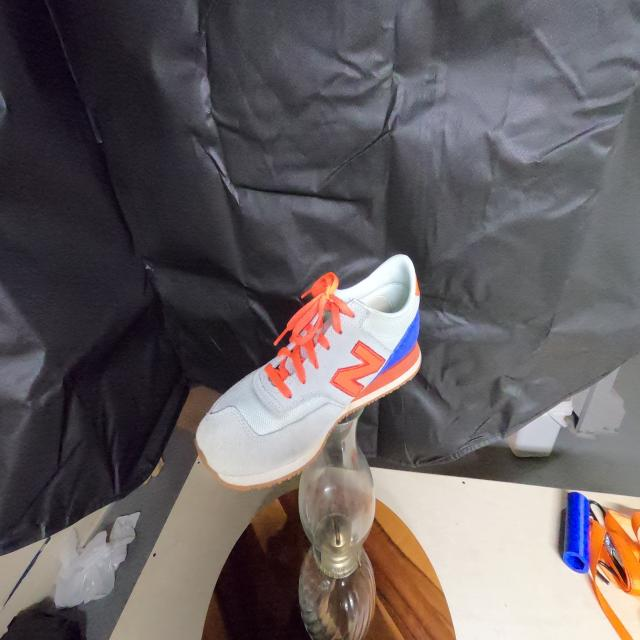shoes: (193, 252, 425, 490)
